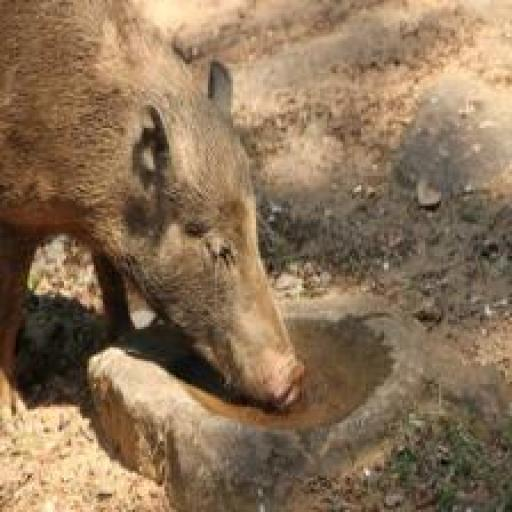Pig: (0, 4, 310, 423)
